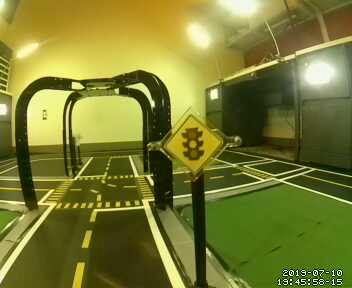Traffic light sign: (159, 115, 224, 174)
